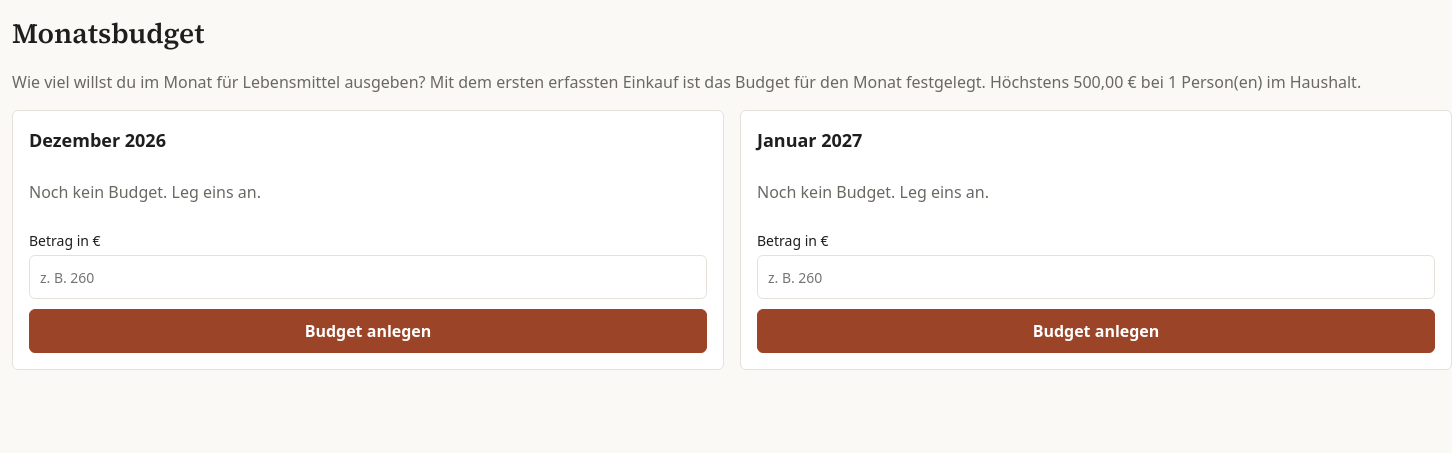
Test: BudgetView › zeigt die Meldung des Backends, wenn das Budget gesperrt ist
This screenshot has width=1452, height=453.
Step 1. Type "300" into the field labelled "Betrag in €" below "Dezember 2026" → (368, 277), box [29,255,707,299]
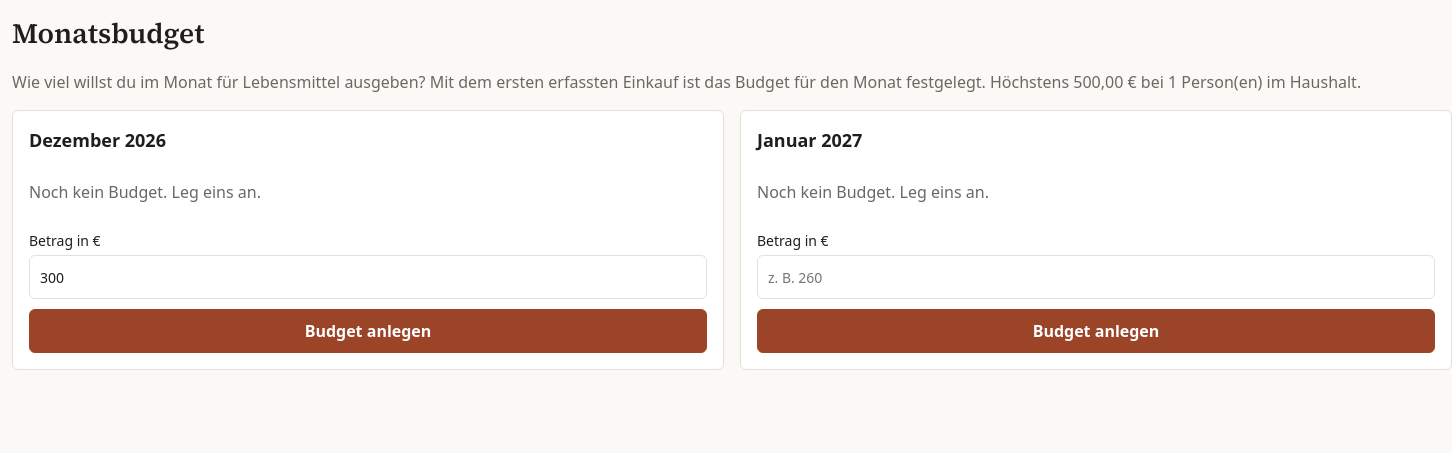
Step 2. Submit the form that starts with "Dezember 2026", box [12,110,724,370]
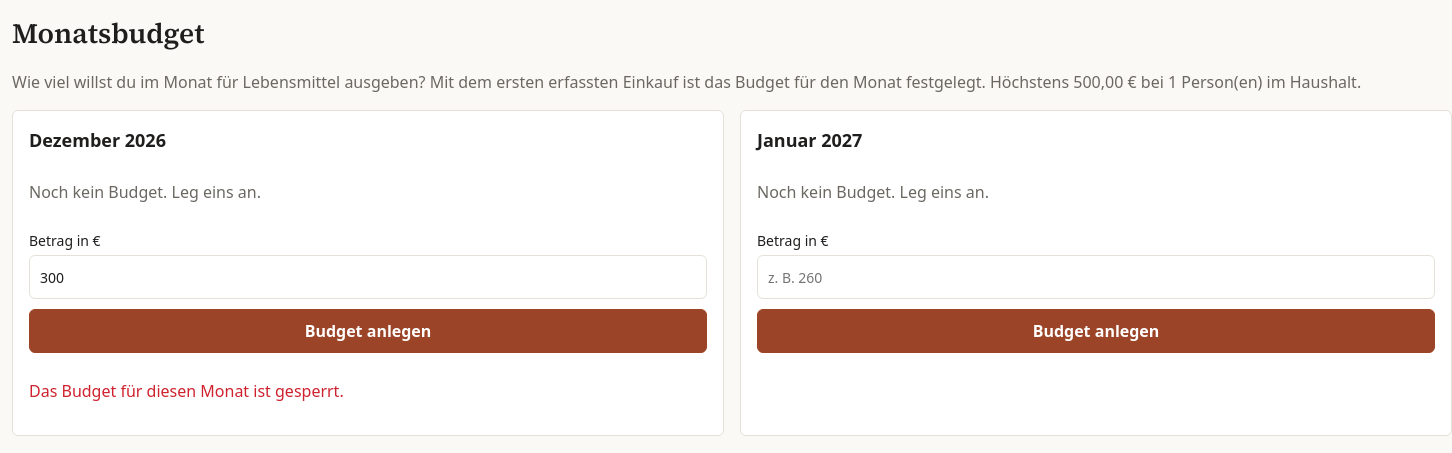
Expected: the message "Das Budget für diesen Monat ist gesperrt." is shown, [29,380,344,402]
